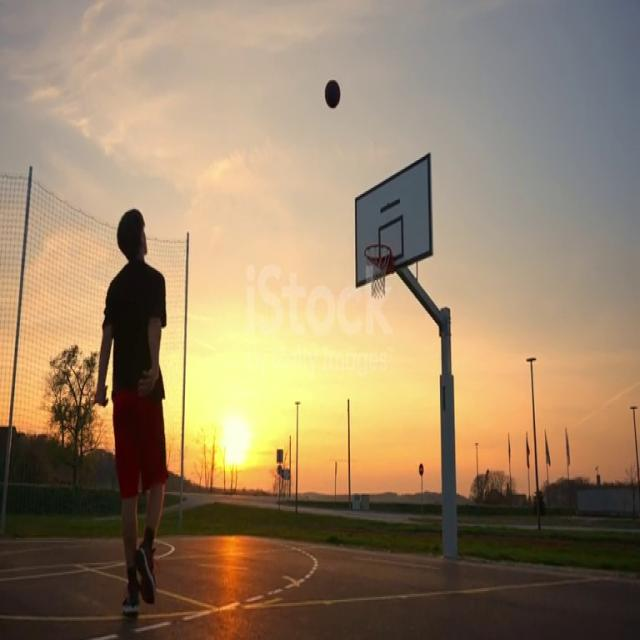ball: (325, 79, 342, 108)
